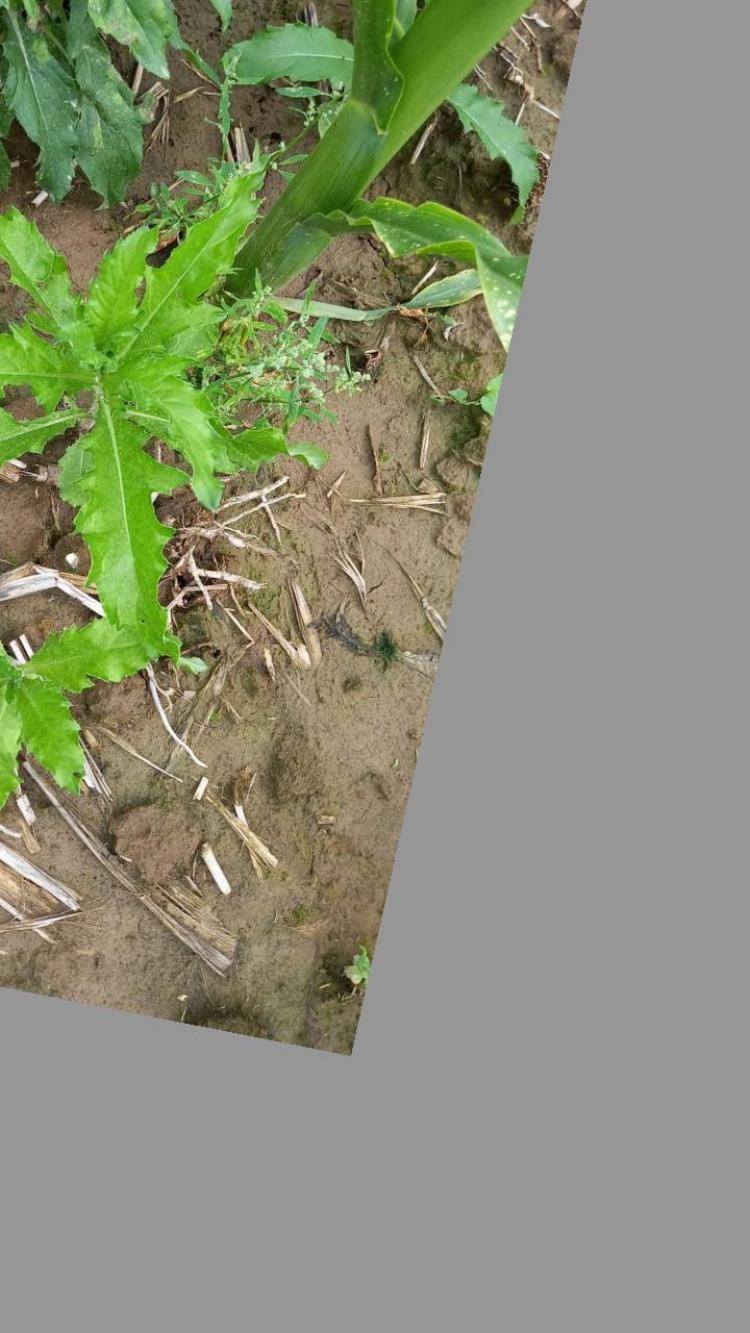osot: (0, 163, 321, 658), (0, 614, 185, 818)
